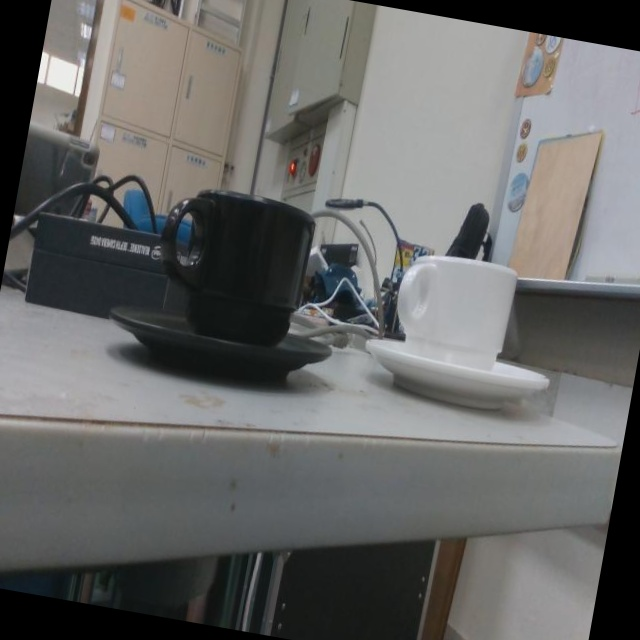black: (112, 186, 344, 387)
white: (369, 255, 560, 409)
